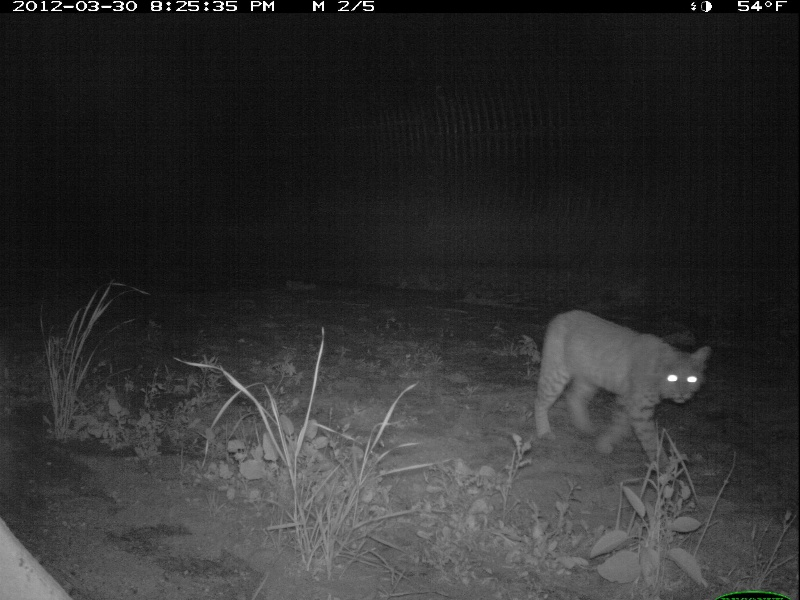cat: (533, 305, 712, 488)
